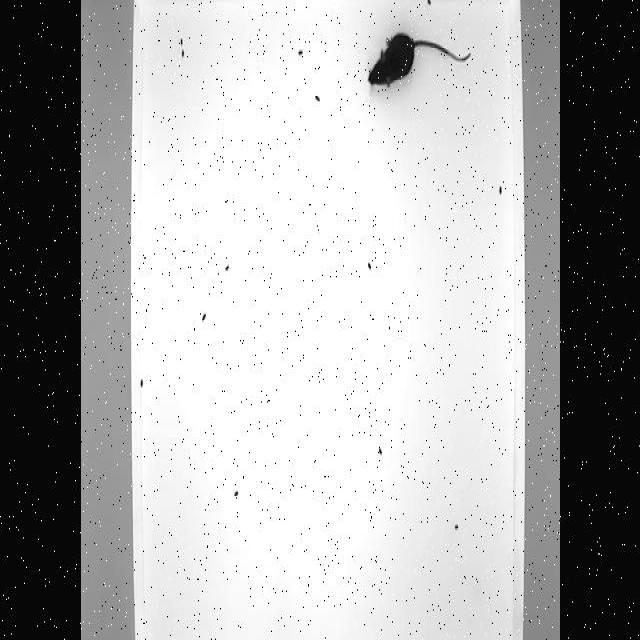rat: (357, 32, 476, 112)
